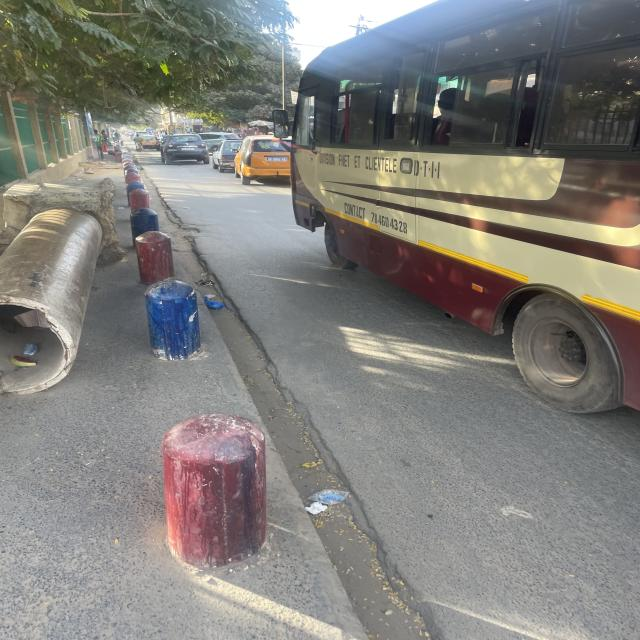bus dem dikk: (274, 1, 640, 414)
car rapide: (169, 119, 204, 135)
particulier: (163, 136, 211, 166), (213, 141, 243, 174), (199, 134, 241, 150)
taxi: (236, 135, 291, 186), (134, 136, 163, 152)
